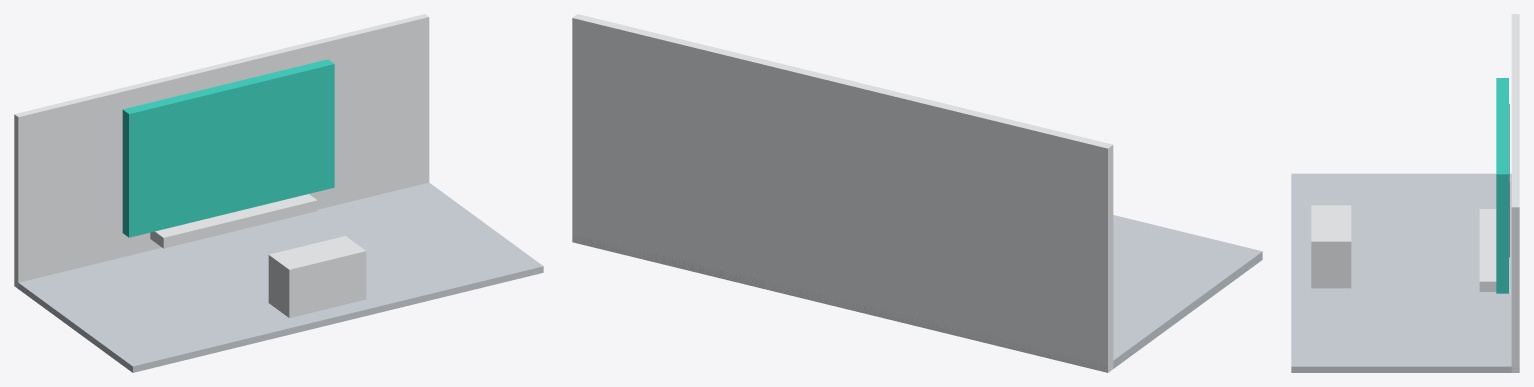
3 renders of one model, left to right at view 1: azimuth 30°, elevation 25°; view 2: azimuth 150°, elevation 25°; view 3: azimuth 270°, elevation 25°, orthographic. The views are drawn at different scales.
Parts seen in each view (by area): view 1: Exhibition Booth Concept; view 2: Exhibition Booth Concept; view 3: Exhibition Booth Concept.
Part boxes in pixels (<box>): Exhibition Booth Concept: <box>14,14,543,372</box>; Exhibition Booth Concept: <box>572,14,1262,372</box>; Exhibition Booth Concept: <box>1291,14,1519,372</box>.
Bounding box in the file's own units: 8 × 3.2 × 4.
